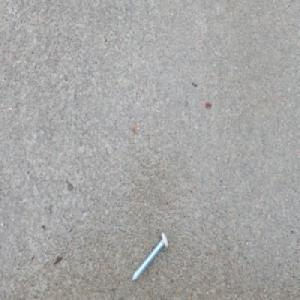Nail: (130, 230, 168, 284)
